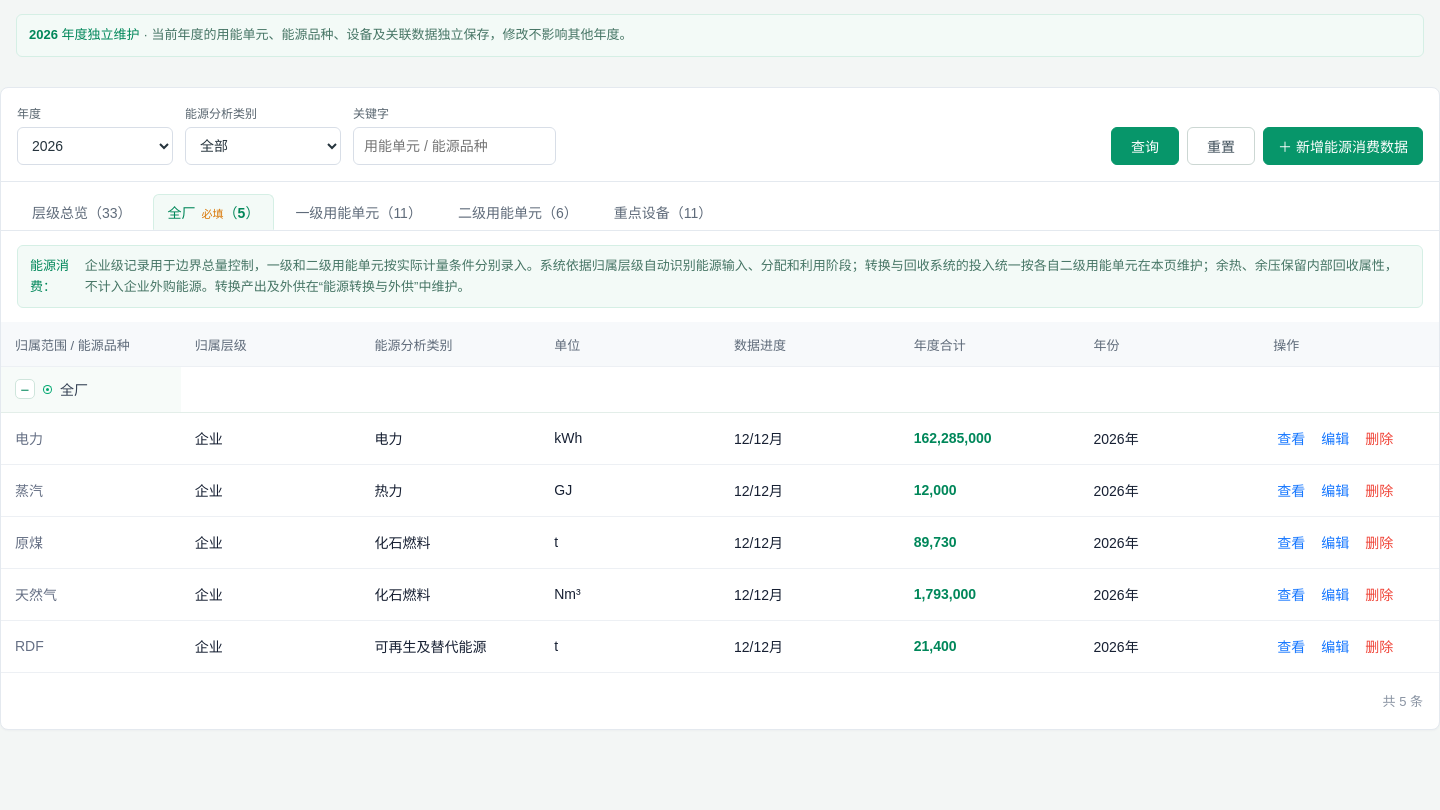
Scenario: annual ledgers and shared monthly details › distinguishes read-only viewing from one complete editing dialog on /data-management/energy-data?scopeLevel=企业
Click the button "查看" in the row of "kWh": (1291, 438) [1273,426,1309,450]
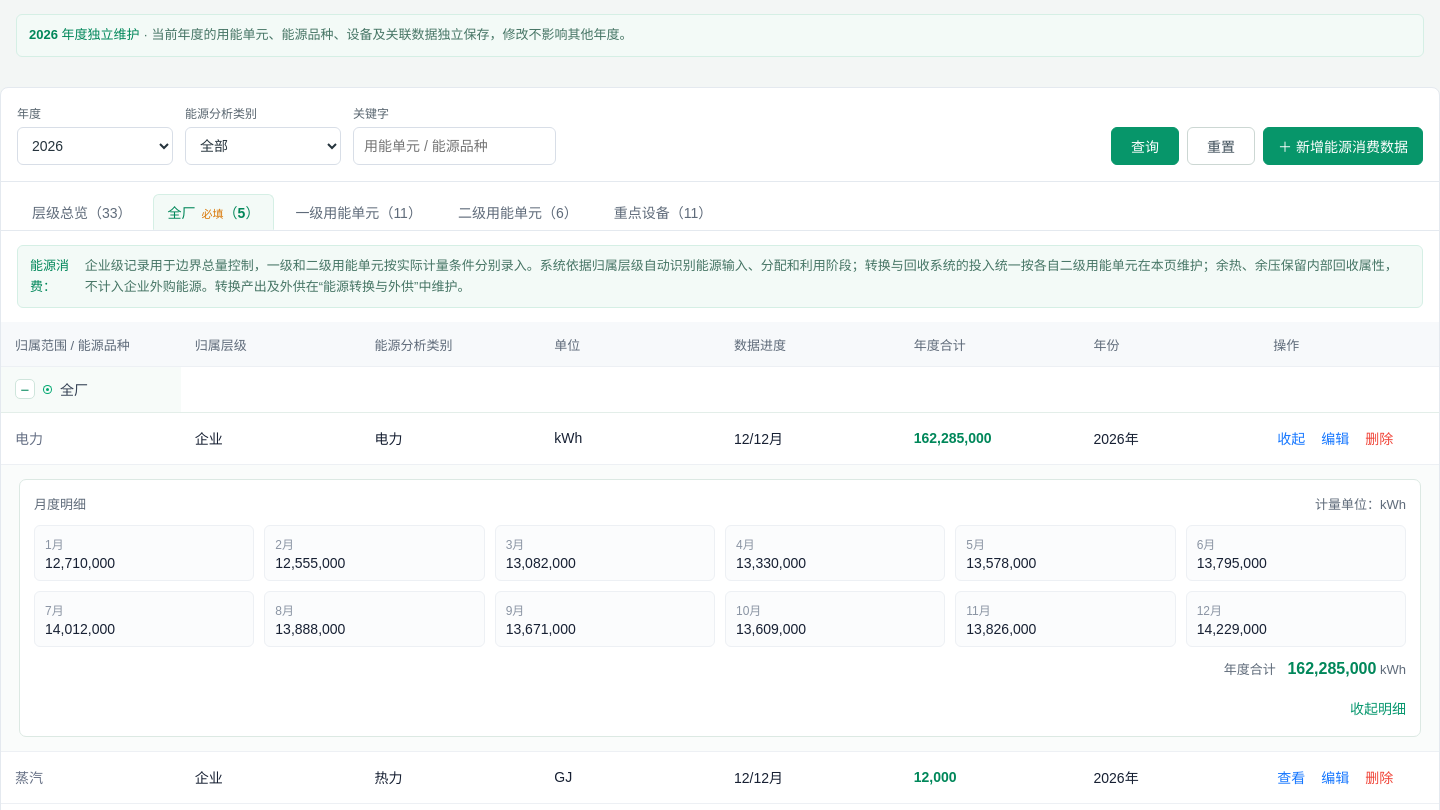
Click the 1st button "编辑": (1335, 438) [1317,426,1353,450]
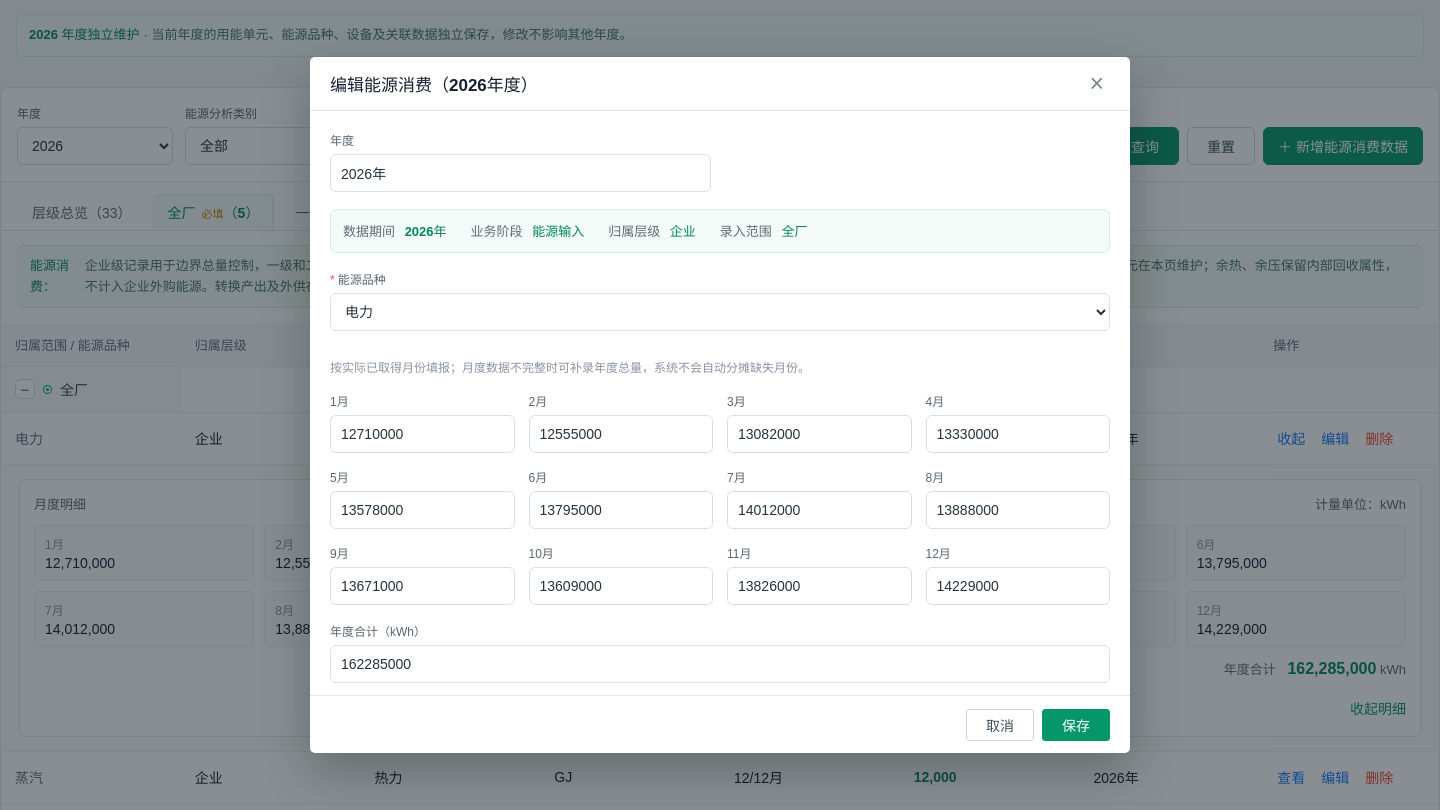
Result: the dialog is shown at [310,57,1130,753]
Click the button "取消": (1000, 725) [966,709,1034,741]
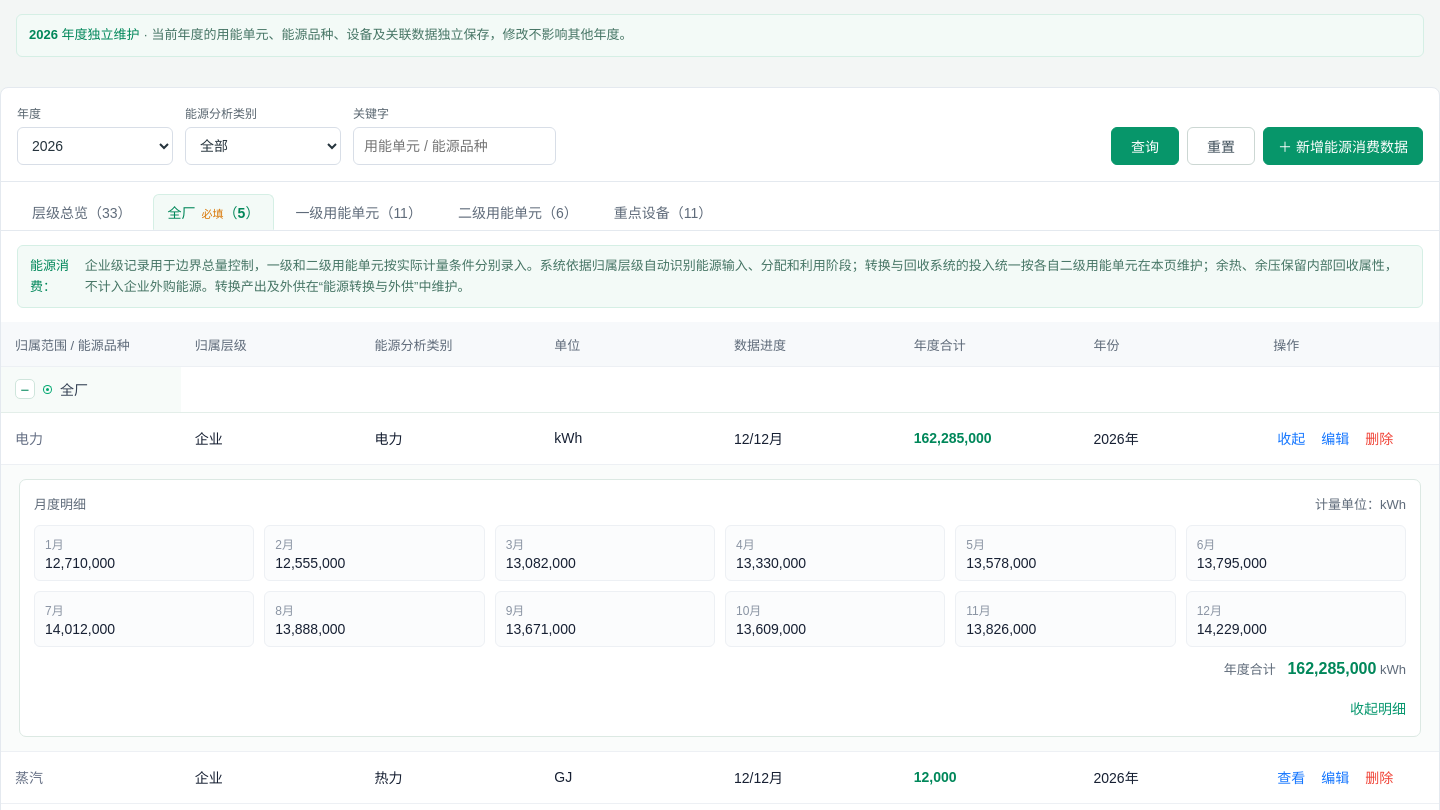
Result: the dialog is gone
